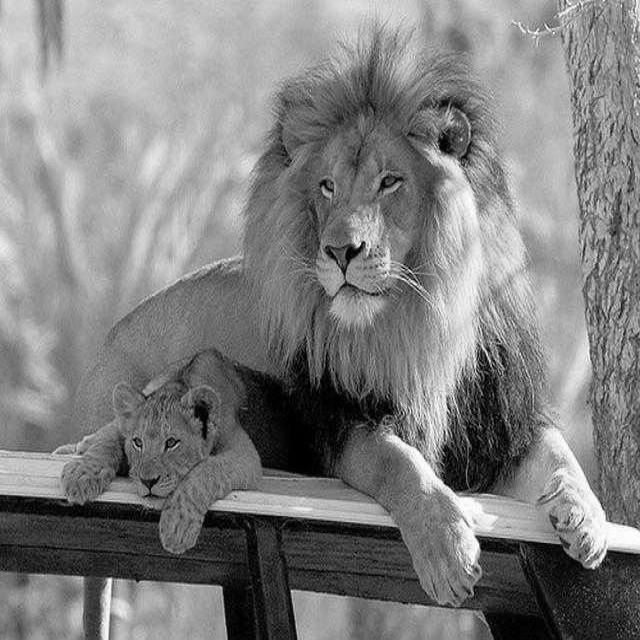Lion: (266, 56, 597, 562), (101, 340, 253, 556)
